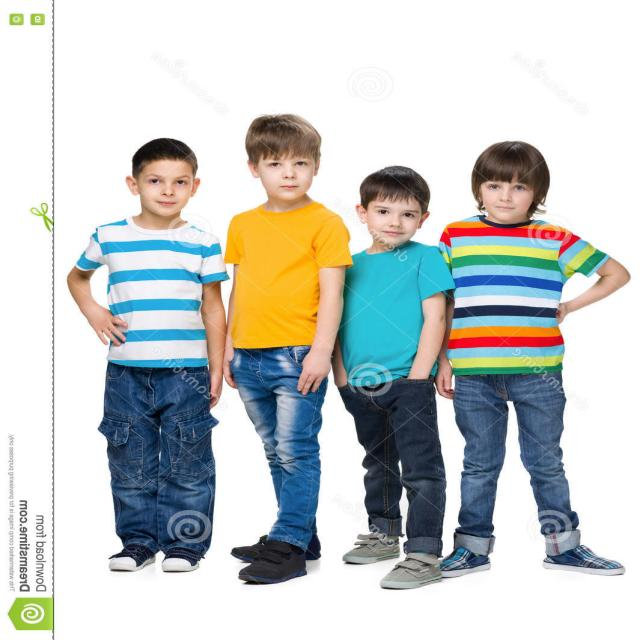child: (434, 135, 636, 592), (59, 128, 229, 582), (222, 111, 356, 591), (324, 158, 452, 591)
